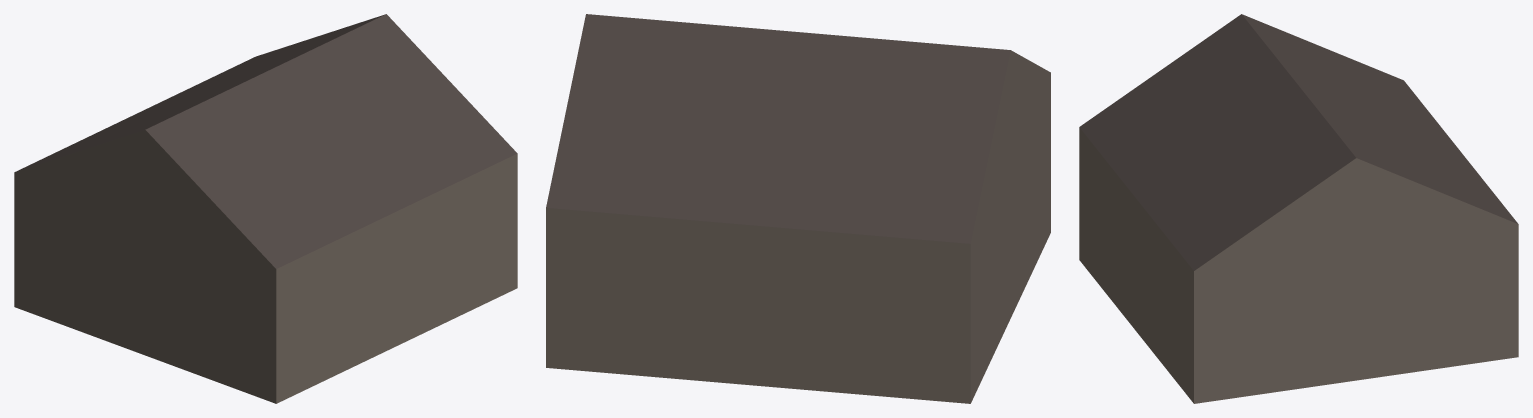
3 renders of one model, left to right at view 1: azimuth 30°, elevation 25°; view 2: azimuth 150°, elevation 25°; view 3: azimuth 270°, elevation 25°, orthographic. The views are drawn at different scales.
Parts seen in each view (by area): view 1: HP-w1376988798; view 2: HP-w1376988798; view 3: HP-w1376988798.
Part boxes in pixels (x1,y1,x2,y2): HP-w1376988798: (14,14,517,403); HP-w1376988798: (546,14,1050,403); HP-w1376988798: (1079,14,1518,403).
Bounding box in the file's own units: 18.49 × 10.05 × 17.99.
